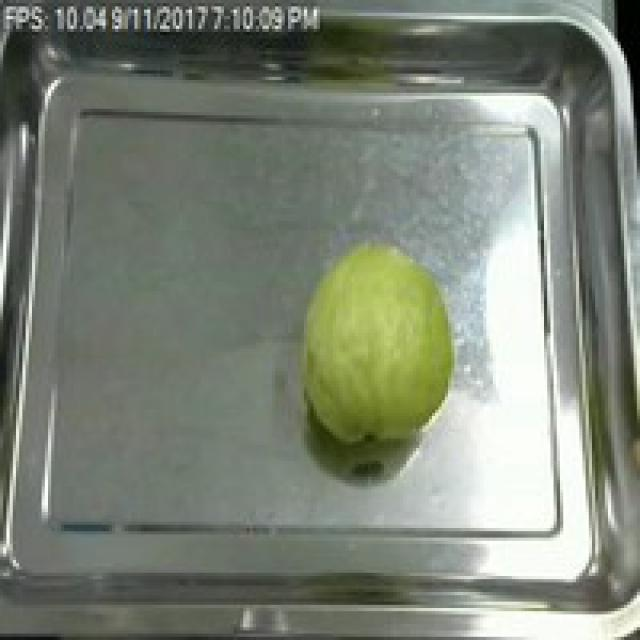Fruit: (291, 233, 467, 454)
